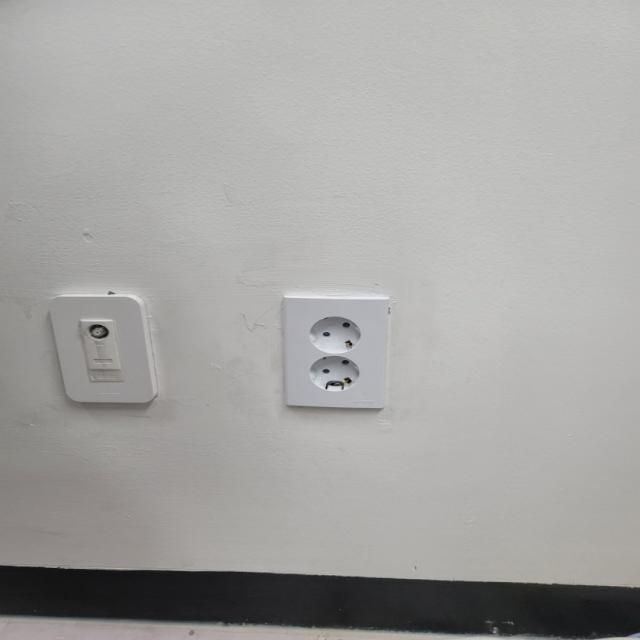typeb: (251, 283, 427, 427)
